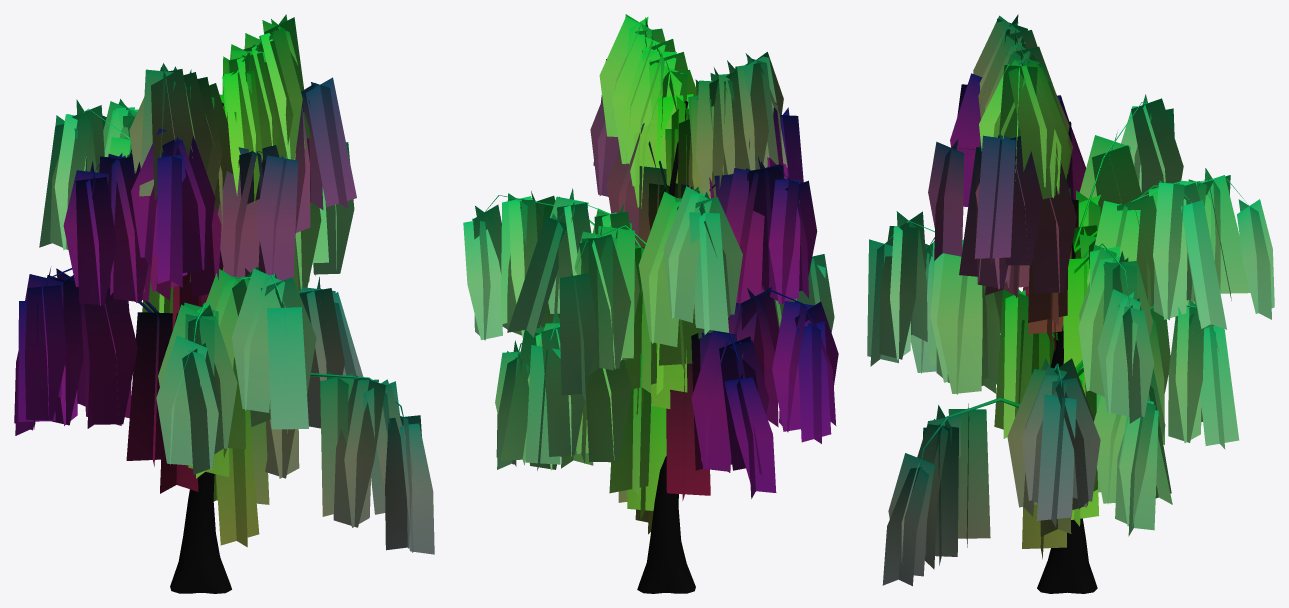
Rendered from Tree_7_1.fbx.
3 views of the same model, side by side, from view 1: azimuth 30°, elevation 25°; view 2: azimuth 150°, elevation 25°; view 3: azimuth 270°, elevation 25° (orthographic). The views are drawn at different scales.
Parts seen in each view (by area): view 1: _1; view 2: _1; view 3: _1.
Boxes of the visible parts, left/top/right/bottom form: _1: left=14, top=14, right=434, bottom=593; _1: left=463, top=14, right=838, bottom=593; _1: left=867, top=14, right=1274, bottom=593.
Bounding box in the file's own units: 873 × 1341 × 903.
